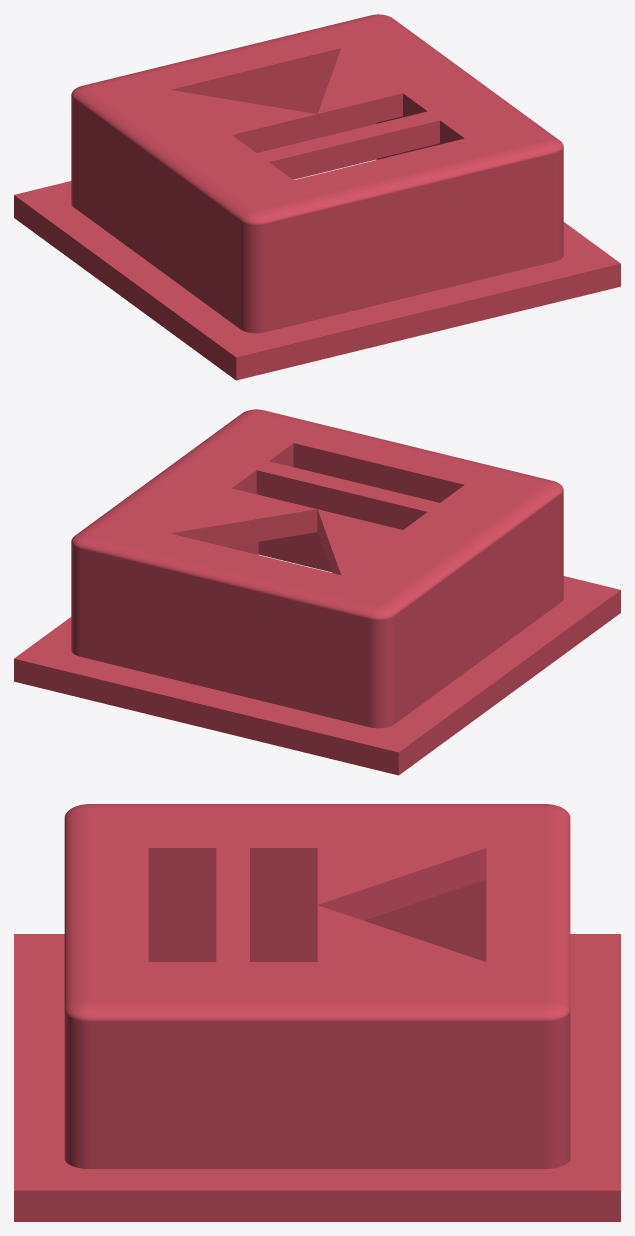
Rendered from rav_PP_button.glb.
3 views of the same model, one above another, from view 1: azimuth 30°, elevation 25°; view 2: azimuth 150°, elevation 25°; view 3: azimuth 270°, elevation 25° (orthographic). The views are drawn at different scales.
Visible parts, largest first — view 1: Mesh_Mesh_head_geo.001_lambert2SG.001; view 2: Mesh_Mesh_head_geo.001_lambert2SG.001; view 3: Mesh_Mesh_head_geo.001_lambert2SG.001.
Part boxes in pixels (bbox=[...]): Mesh_Mesh_head_geo.001_lambert2SG.001: bbox=[14, 14, 620, 380]; Mesh_Mesh_head_geo.001_lambert2SG.001: bbox=[14, 409, 620, 775]; Mesh_Mesh_head_geo.001_lambert2SG.001: bbox=[14, 804, 620, 1221].
Bounding box in the file's own units: 0.0175 × 0.006 × 0.0175.
